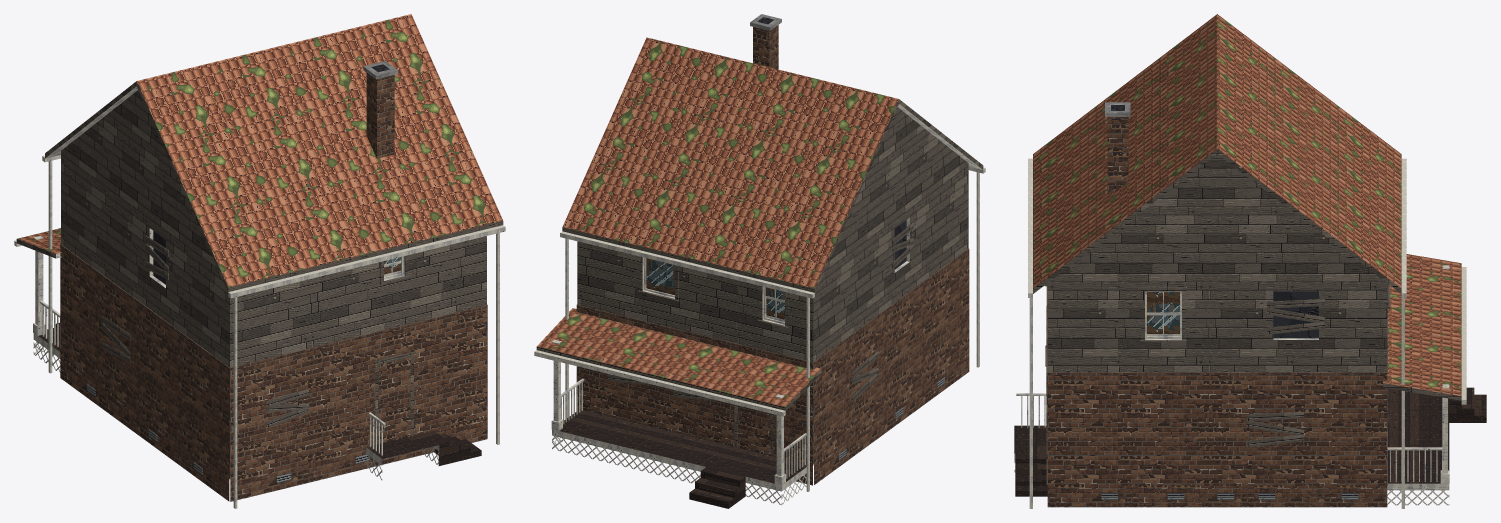
Rendered from RES_House_Abandoned.obj.
3 views of the same model, side by side, from view 1: azimuth 30°, elevation 25°; view 2: azimuth 150°, elevation 25°; view 3: azimuth 270°, elevation 25° (orthographic). The views are drawn at different scales.
Parts seen in each view (by area): view 1: RES_House_Abandoned_Exterior_M_Arch_RoofTilesWeathered, RES_House_Abandoned_Exterior_M_Arch_BrickWeatheredBrown, RES_House_Abandoned_Exterior_M_Arch_WoodPlanksAged, RES_House_Abandoned_Exterior_M_Town_PaintWhite, RES_House_Abandoned_Exterior_M_Arch_TrimPainted, RES_House_Abandoned_Exterior_M_Hor_WoodDarkened; view 2: RES_House_Abandoned_Exterior_M_Arch_RoofTilesWeathered, RES_House_Abandoned_Exterior_M_Arch_WoodPlanksAged, RES_House_Abandoned_Exterior_M_Arch_BrickWeatheredBrown, RES_House_Abandoned_Exterior_M_Hor_WoodDarkened, RES_House_Abandoned_Exterior_M_Town_PaintWhite, RES_House_Abandoned_Exterior_M_Arch_TrimPainted, RES_House_Abandoned_Exterior_M_Res_Lattice, RES_House_Abandoned_Exterior_M_Arch_WindowGlassDirty; view 3: RES_House_Abandoned_Exterior_M_Arch_RoofTilesWeathered, RES_House_Abandoned_Exterior_M_Arch_WoodPlanksAged, RES_House_Abandoned_Exterior_M_Arch_BrickWeatheredBrown, RES_House_Abandoned_Exterior_M_Hor_WoodDarkened, RES_House_Abandoned_Exterior_M_Town_PaintWhite, RES_House_Abandoned_Exterior_M_Arch_TrimPainted, RES_House_Abandoned_Exterior_M_Road_RoadPatch, RES_House_Abandoned_Exterior_M_Arch_WindowGlassDirty, RES_House_Abandoned_Exterior_M_Town_VentGrille.
Part boxes in pixels (x1,y1,x2,y2): RES_House_Abandoned_Exterior_M_Arch_RoofTilesWeathered: [17, 14, 502, 287]; RES_House_Abandoned_Exterior_M_Arch_BrickWeatheredBrown: [60, 73, 487, 501]; RES_House_Abandoned_Exterior_M_Arch_WoodPlanksAged: [16, 81, 503, 478]; RES_House_Abandoned_Exterior_M_Town_PaintWhite: [14, 155, 505, 508]; RES_House_Abandoned_Exterior_M_Arch_TrimPainted: [33, 86, 439, 465]; RES_House_Abandoned_Exterior_M_Hor_WoodDarkened: [38, 322, 481, 465]; RES_House_Abandoned_Exterior_M_Arch_RoofTilesWeathered: [537, 37, 898, 407]; RES_House_Abandoned_Exterior_M_Arch_WoodPlanksAged: [536, 99, 983, 464]; RES_House_Abandoned_Exterior_M_Arch_BrickWeatheredBrown: [576, 25, 969, 485]; RES_House_Abandoned_Exterior_M_Hor_WoodDarkened: [559, 409, 806, 508]; RES_House_Abandoned_Exterior_M_Town_PaintWhite: [534, 167, 985, 491]; RES_House_Abandoned_Exterior_M_Arch_TrimPainted: [551, 104, 982, 491]; RES_House_Abandoned_Exterior_M_Res_Lattice: [552, 436, 806, 505]; RES_House_Abandoned_Exterior_M_Arch_WindowGlassDirty: [646, 258, 784, 319]; RES_House_Abandoned_Exterior_M_Arch_RoofTilesWeathered: [1033, 14, 1461, 396]; RES_House_Abandoned_Exterior_M_Arch_WoodPlanksAged: [1033, 149, 1461, 448]; RES_House_Abandoned_Exterior_M_Arch_BrickWeatheredBrown: [1046, 117, 1387, 507]; RES_House_Abandoned_Exterior_M_Hor_WoodDarkened: [1014, 387, 1486, 496]; RES_House_Abandoned_Exterior_M_Town_PaintWhite: [1028, 158, 1466, 508]; RES_House_Abandoned_Exterior_M_Arch_TrimPainted: [1014, 265, 1449, 490]; RES_House_Abandoned_Exterior_M_Road_RoadPatch: [1111, 105, 1318, 338]; RES_House_Abandoned_Exterior_M_Arch_WindowGlassDirty: [1147, 292, 1179, 333]; RES_House_Abandoned_Exterior_M_Town_VentGrille: [1101, 493, 1358, 499].
Size of the model in its own units: 7.7 by 9.7 by 11.4.
Materials: 24 (23 with a texture image).
